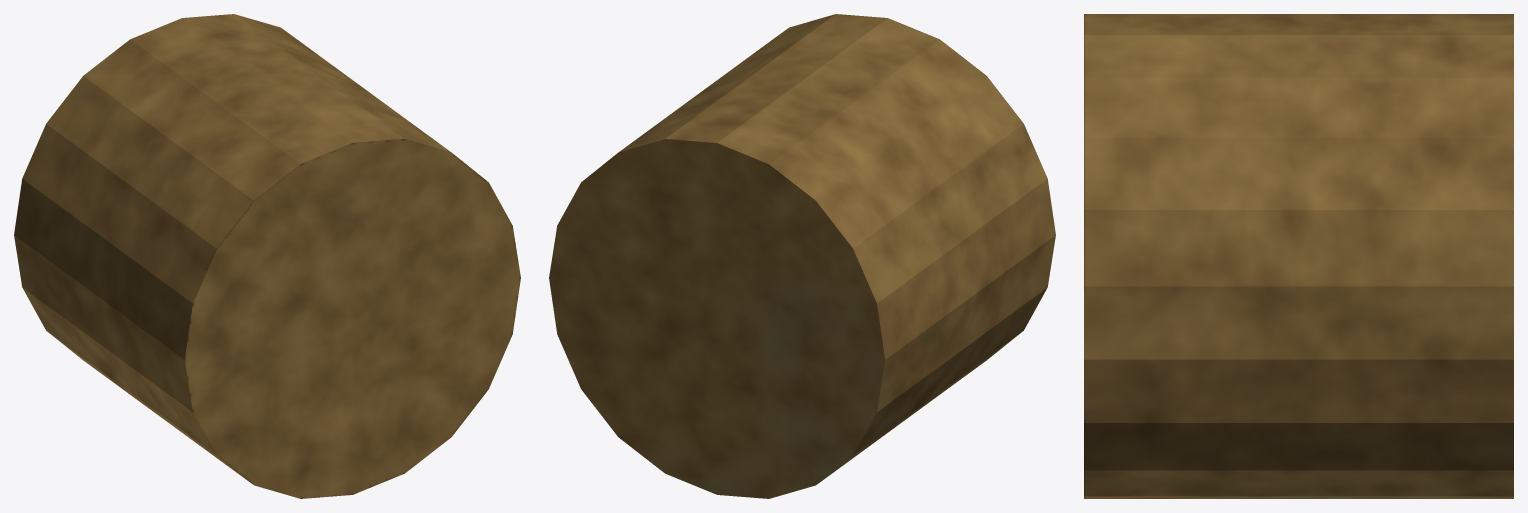
File: Ring mounting boss__n12.glb
3 renders of one model, left to right at view 1: azimuth 30°, elevation 25°; view 2: azimuth 150°, elevation 25°; view 3: azimuth 270°, elevation 25°, orthographic. The views are drawn at different scales.
Visible parts, largest first — view 1: Ring mounting boss; view 2: Ring mounting boss; view 3: Ring mounting boss.
Part boxes in pixels (bbox=[...]): Ring mounting boss: bbox=[14, 14, 520, 498]; Ring mounting boss: bbox=[549, 14, 1055, 498]; Ring mounting boss: bbox=[1084, 14, 1513, 498].
Bounding box in the file's own units: 0.108 × 0.108 × 0.095.
Materials: 1 (1 with a texture image).
